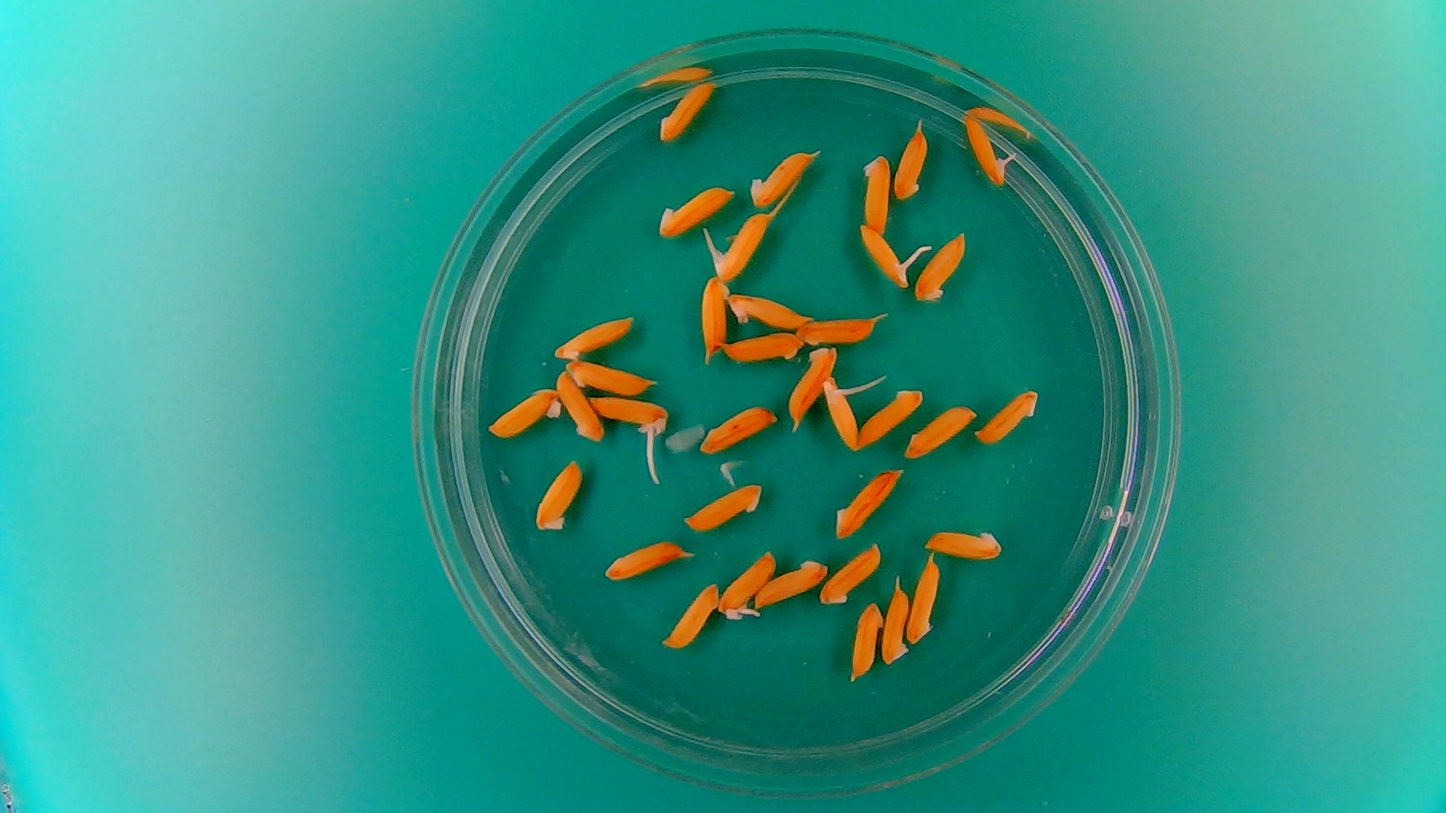no: (831, 465, 904, 542), (748, 145, 821, 210), (752, 553, 831, 612), (657, 180, 737, 238), (681, 480, 764, 534), (855, 385, 925, 449), (660, 578, 721, 651), (785, 343, 838, 427), (696, 401, 778, 455), (913, 227, 969, 306), (819, 540, 885, 607), (550, 311, 637, 361), (904, 402, 979, 460), (486, 383, 562, 440), (532, 454, 586, 534), (973, 386, 1042, 448), (657, 77, 718, 143), (601, 537, 688, 583), (554, 369, 604, 446), (564, 358, 657, 398), (904, 554, 943, 647), (726, 288, 811, 330), (892, 117, 929, 202), (923, 525, 1005, 562), (697, 273, 731, 362), (721, 330, 805, 366), (850, 597, 885, 682), (797, 314, 882, 348), (881, 579, 914, 666), (859, 148, 892, 234)
yes: (856, 222, 926, 288), (960, 111, 1012, 187), (717, 547, 772, 617), (712, 212, 768, 276), (819, 374, 862, 452), (587, 393, 668, 434)
